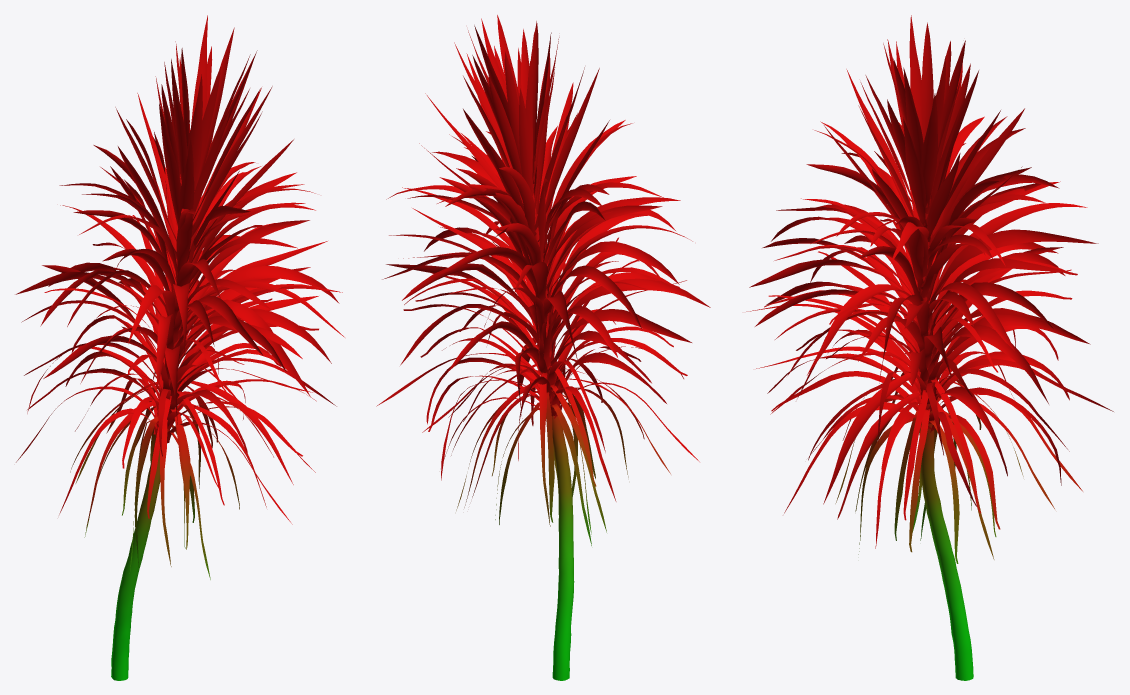
The model's file is Var2_LOD2.fbx.
The picture shows the model from 3 angles, left to right: view 1: azimuth 30°, elevation 25°; view 2: azimuth 150°, elevation 25°; view 3: azimuth 270°, elevation 25°; orthographic projection. The views are drawn at different scales.
Parts seen in each view (by area): view 1: _kjuu_Var2_LOD2; view 2: _kjuu_Var2_LOD2; view 3: _kjuu_Var2_LOD2.
Part boxes in pixels (<box>): _kjuu_Var2_LOD2: <box>15,15,344,680</box>; _kjuu_Var2_LOD2: <box>376,15,710,680</box>; _kjuu_Var2_LOD2: <box>746,15,1113,680</box>.
Size of the model in its own units: 80.27 by 169 by 83.68.
